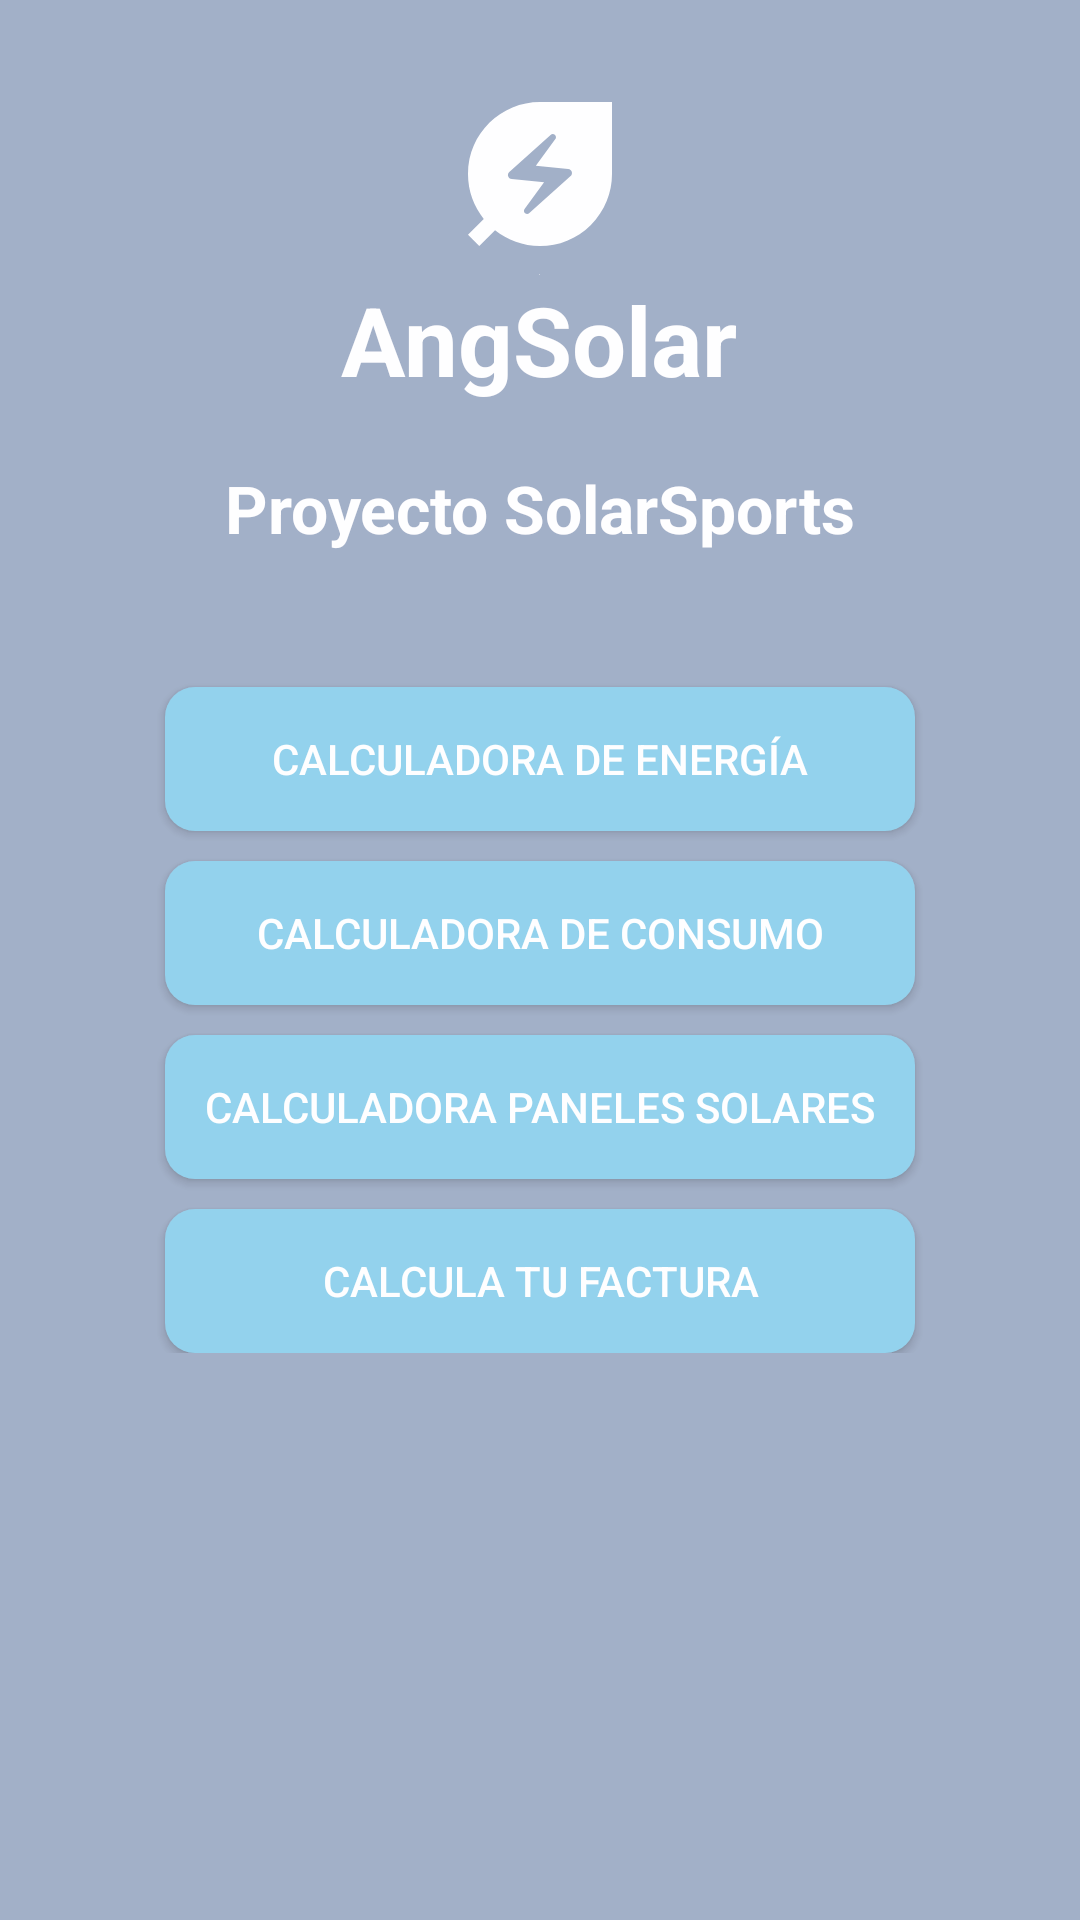

Icons on this 1080 × 1920 Android screen, each with its box as (x1, y1, x2, y2):
energy: (468, 102, 612, 246)
